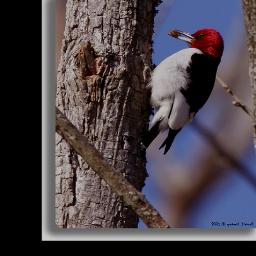Woodpecker: (139, 27, 225, 154)
